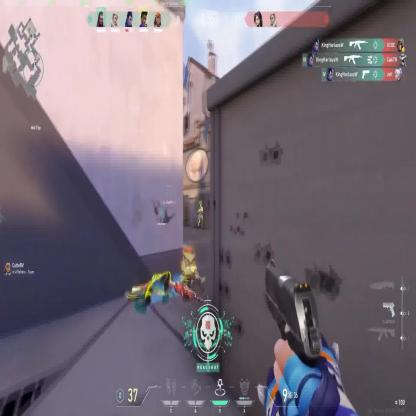enemy: (196, 200, 203, 231)
enemy_head: (199, 201, 202, 207)
